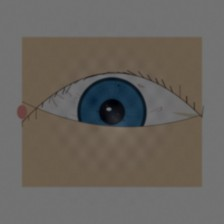pterygium_lesion: (167, 99, 200, 125)
